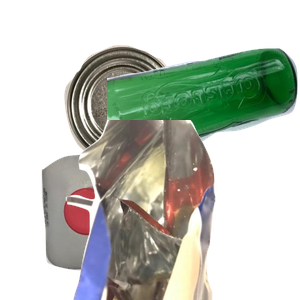glass: (107, 46, 300, 197)
metal: (62, 43, 232, 198)
plastic: (39, 149, 203, 300)
trash: (63, 120, 300, 300)
